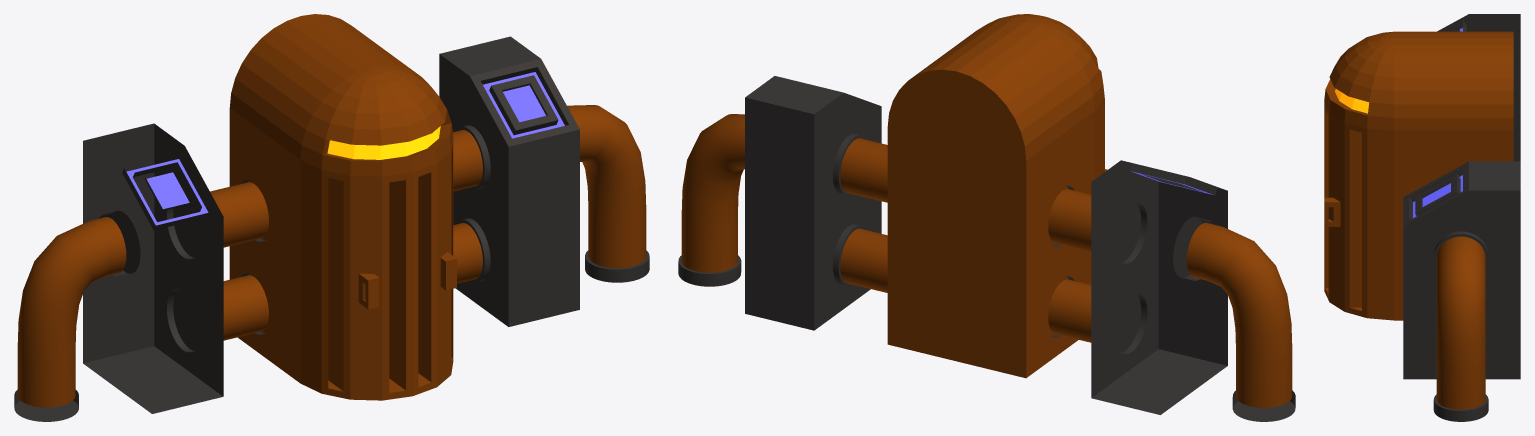
Rendered from BossMapMain.fbx.
3 views of the same model, side by side, from view 1: azimuth 30°, elevation 25°; view 2: azimuth 150°, elevation 25°; view 3: azimuth 270°, elevation 25° (orthographic). The views are drawn at different scales.
Parts seen in each view (by area): view 1: Main, Monitor02, Monitor01, OutputPipe01.001, OutputPipe01; view 2: Main, Monitor02, Monitor01, OutputPipe01.001, OutputPipe01; view 3: Main, Monitor01, OutputPipe01, Monitor02.
Part boxes in pixels (left/top/right/bottom): Main: left=229, top=14, right=456, bottom=400; Monitor02: left=83, top=123, right=223, bottom=413; Monitor01: left=439, top=36, right=579, bottom=326; OutputPipe01.001: left=14, top=178, right=268, bottom=421; OutputPipe01: left=452, top=105, right=649, bottom=283; Main: left=887, top=14, right=1107, bottom=378; Monitor02: left=1091, top=160, right=1227, bottom=414; Monitor01: left=745, top=76, right=881, bottom=330; OutputPipe01.001: left=1048, top=185, right=1295, bottom=421; OutputPipe01: left=678, top=114, right=887, bottom=292; Main: left=1324, top=31, right=1513, bottom=320; Monitor01: left=1403, top=161, right=1520, bottom=379; OutputPipe01: left=1433, top=231, right=1488, bottom=421; Monitor02: left=1437, top=14, right=1520, bottom=161.
Bounding box in the file's own units: 8.79 × 4.02 × 2.82.
